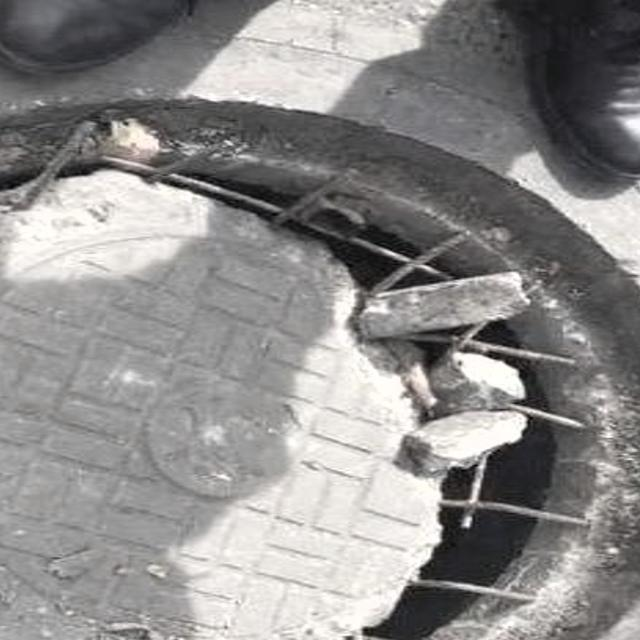broke: (0, 49, 640, 640)
